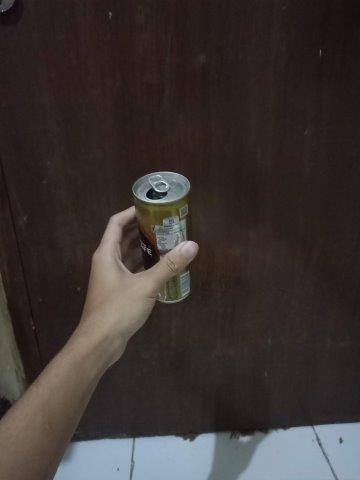kaleng: (132, 171, 191, 305)
